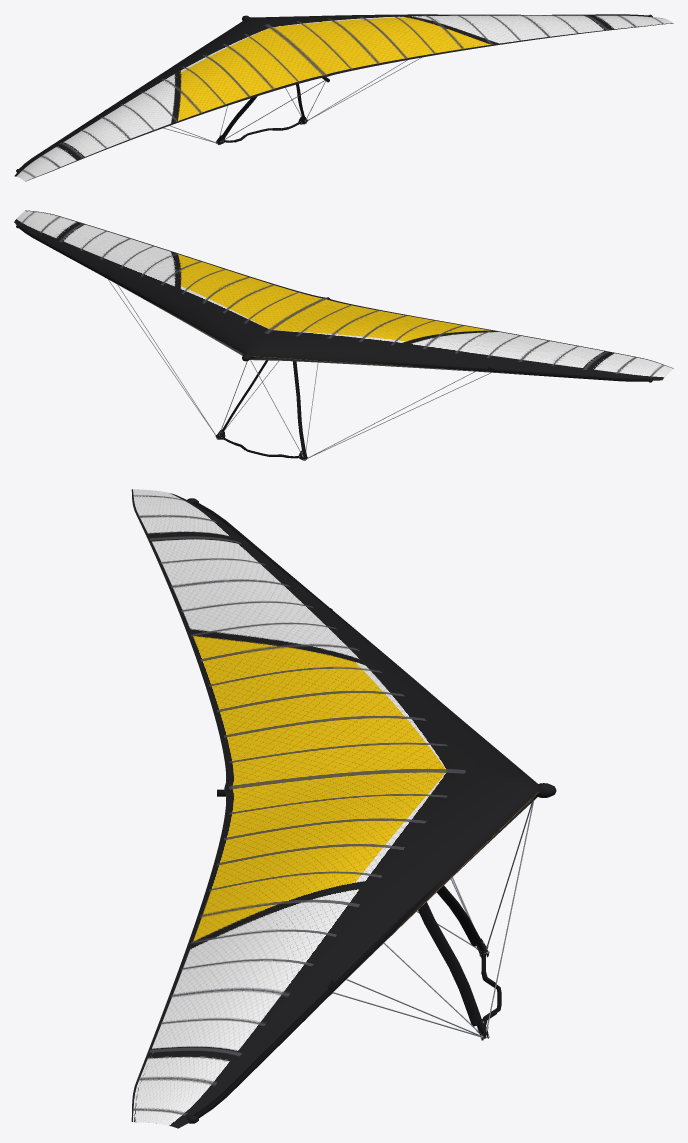
The model's file is glider_combat.glb.
3 renders of one model, top to bottom at view 1: azimuth 30°, elevation 25°; view 2: azimuth 150°, elevation 25°; view 3: azimuth 270°, elevation 25°, orthographic. The views are drawn at different scales.
Visible parts, largest first — view 1: Sail, ControlFrame, Frame; view 2: Sail, ControlFrame, Frame; view 3: Sail, ControlFrame, Frame.
Boxes of the visible parts, left/top/right/bottom form: Sail: left=14, top=14, right=673, bottom=181; ControlFrame: left=163, top=57, right=422, bottom=144; Frame: left=16, top=14, right=652, bottom=172; Sail: left=14, top=210, right=673, bottom=380; ControlFrame: left=108, top=279, right=491, bottom=460; Frame: left=16, top=223, right=653, bottom=382; Sail: left=131, top=489, right=538, bottom=1128; ControlFrame: left=333, top=801, right=533, bottom=1040; Frame: left=186, top=498, right=556, bottom=1123.
Size of the model in its own units: 10.35 by 1.78 by 2.93.
8 materials, 1 textured.
